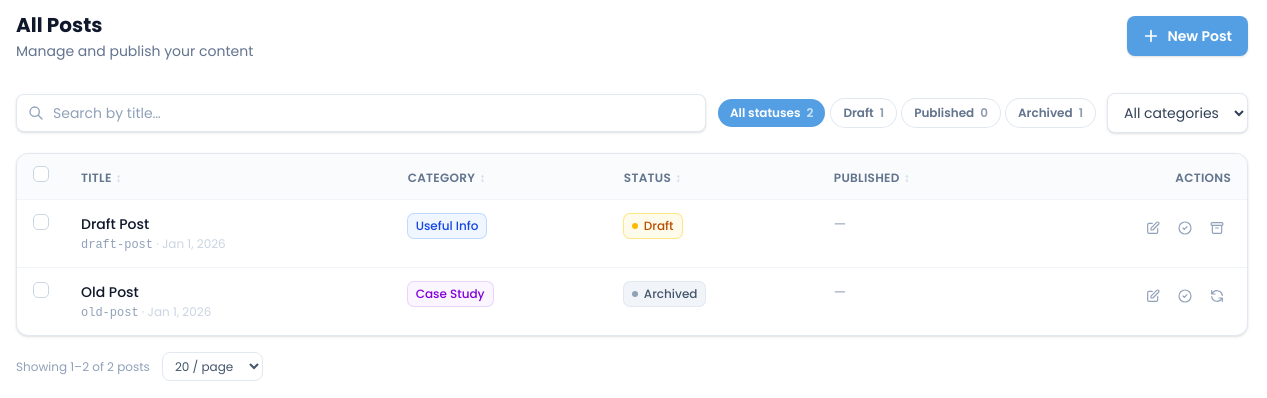
DashboardClient › category filter hides other categories
The width and height of the screenshot is (1267, 398).
Select "Case Study" in the 1st dropdown at point(1178, 113), box [1107,93,1248,133]
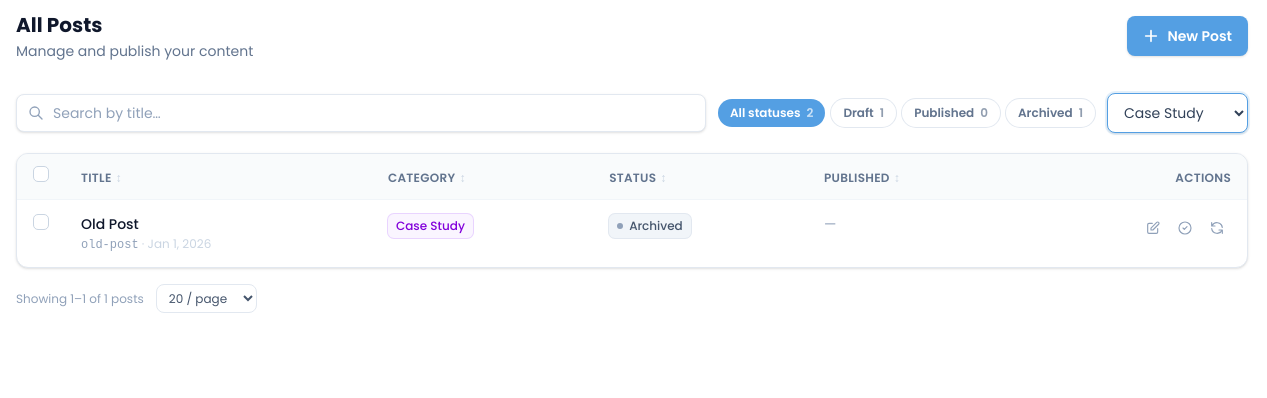
Expected: the link "Old Post" is shown, [81,214,139,234]
Now the link "Draft Post" is gone
